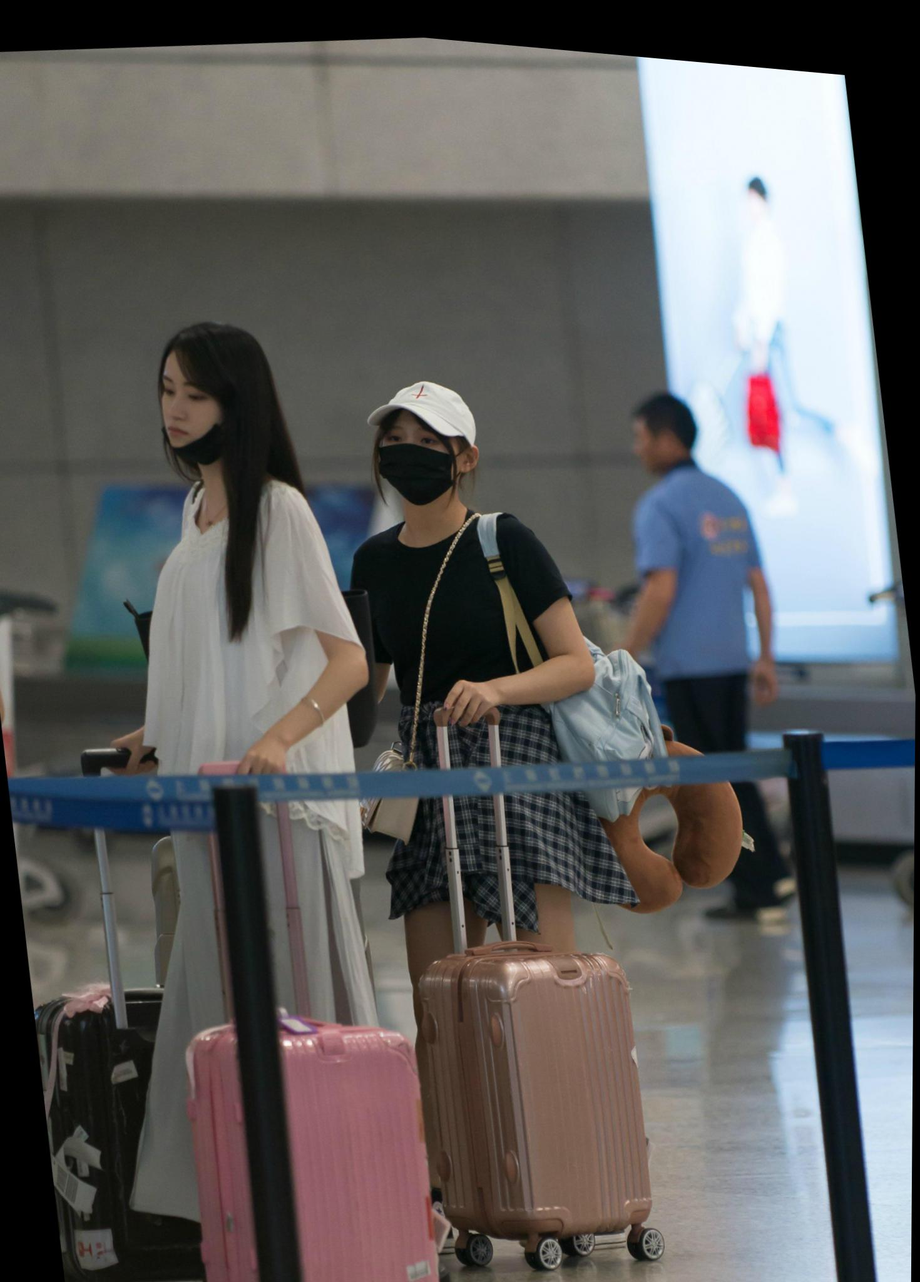OK: (369, 408, 464, 510)
WRONG: (154, 371, 233, 463)
